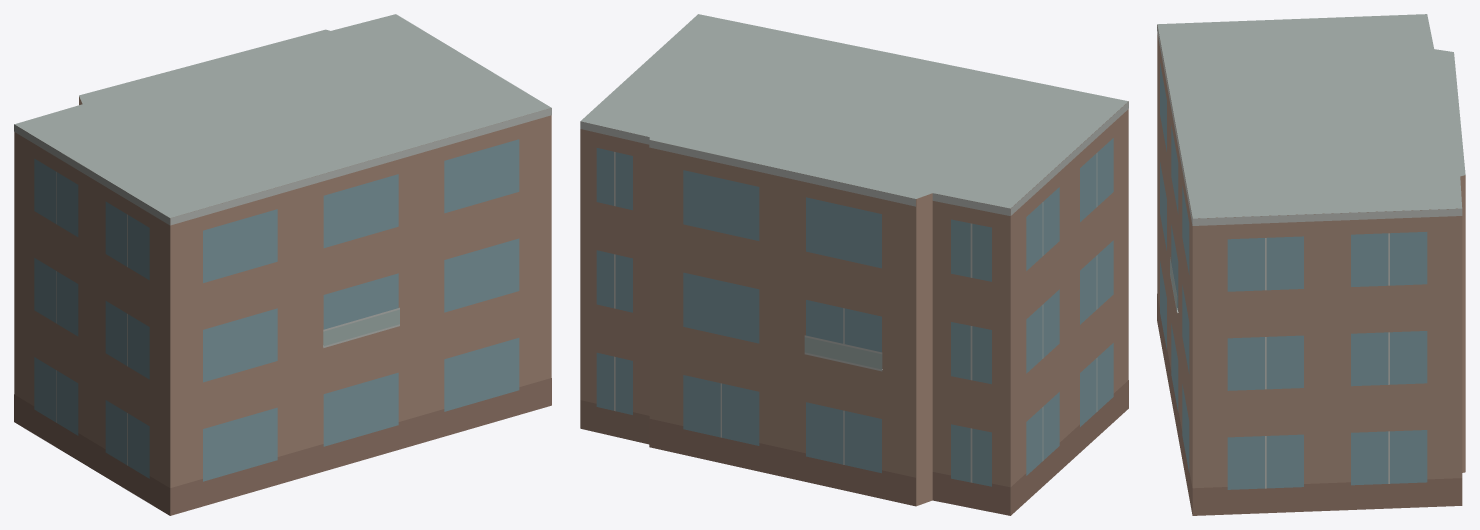
The model's file is survey-upis-32584530.glb.
The picture shows the model from 3 angles, left to right: view 1: azimuth 30°, elevation 25°; view 2: azimuth 150°, elevation 25°; view 3: azimuth 270°, elevation 25°; orthographic projection. The views are drawn at different scales.
Visible parts, largest first — view 1: survey-upis-32584530.tmp; view 2: survey-upis-32584530.tmp; view 3: survey-upis-32584530.tmp.
Part boxes in pixels (x1=…): survey-upis-32584530.tmp: x1=14, y1=14, x2=551, y2=515; survey-upis-32584530.tmp: x1=580, y1=14, x2=1128, y2=515; survey-upis-32584530.tmp: x1=1157, y1=14, x2=1465, y2=515.
Bounding box in the file's own units: 14.48 × 9.8 × 9.22.
